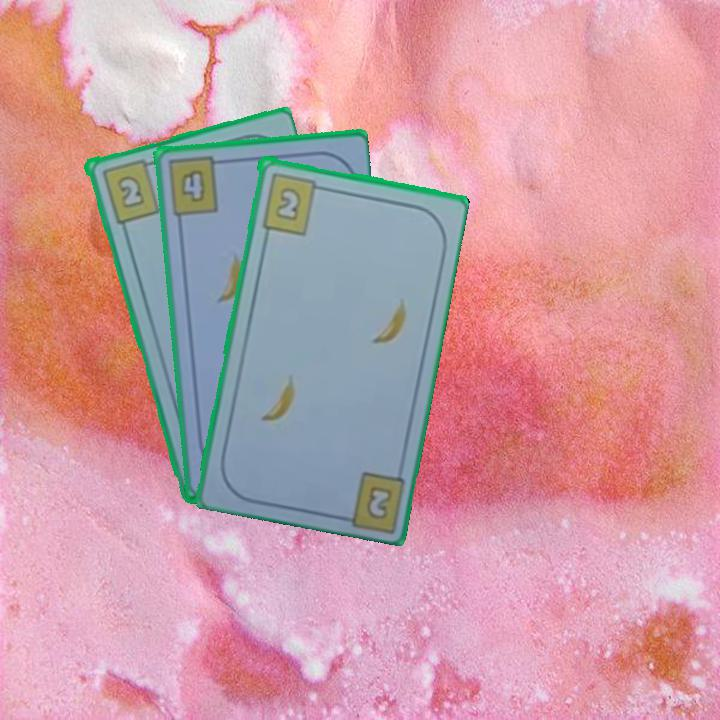2b: (257, 169, 328, 237), (98, 155, 162, 226), (362, 481, 395, 523)
4b: (163, 153, 227, 218)
